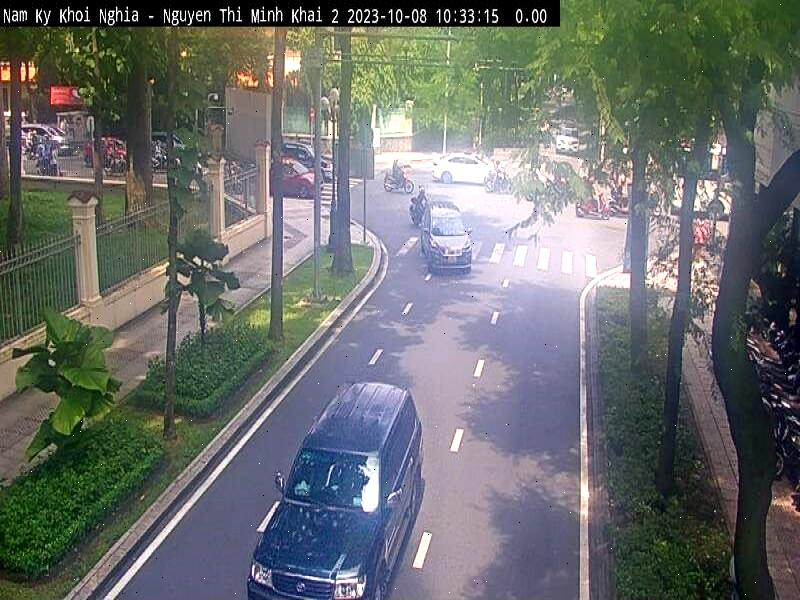car: (246, 357, 442, 600), (416, 191, 482, 310), (435, 145, 508, 219), (278, 147, 311, 202)
